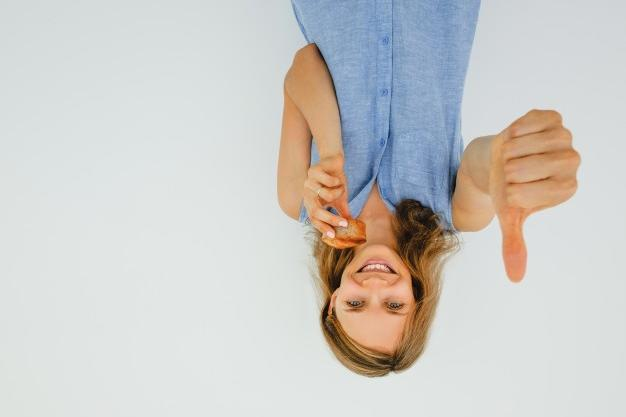thumbsdown: (498, 108, 581, 283)
